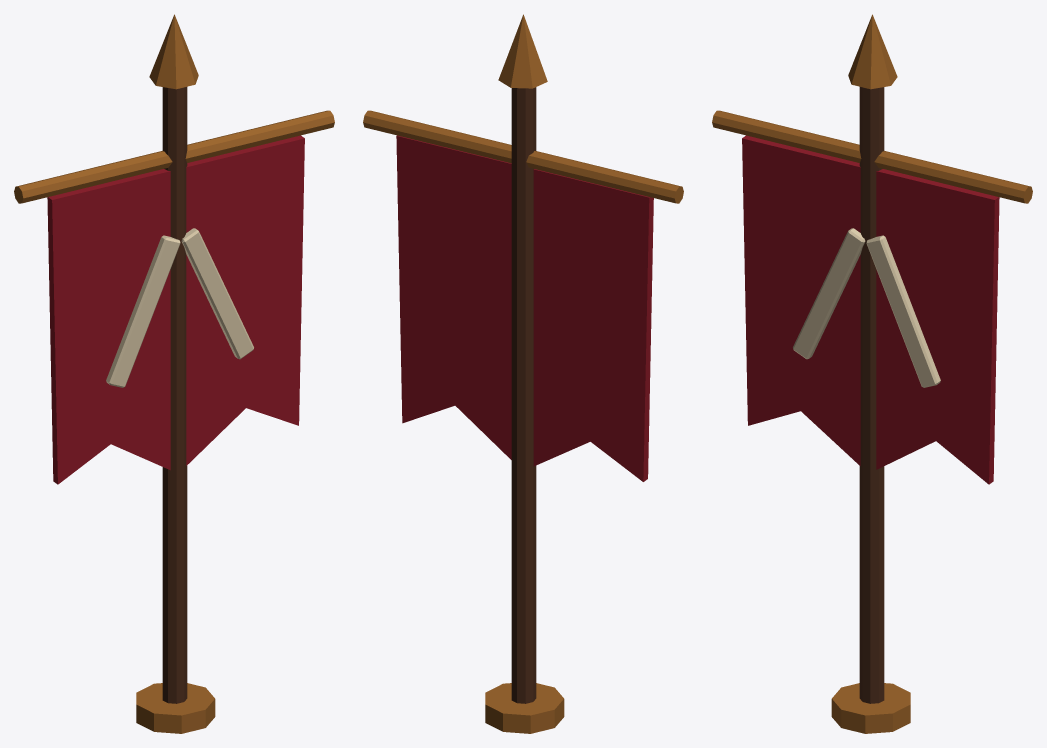
File: battle_banner_crimson_lambda_LOD1.glb
The picture shows the model from 3 angles, left to right: view 1: azimuth 30°, elevation 25°; view 2: azimuth 150°, elevation 25°; view 3: azimuth 330°, elevation 25°; orthographic projection.
Parts seen in each view (by area): view 1: battle_banner_crimson_lambda_LOD1; view 2: battle_banner_crimson_lambda_LOD1; view 3: battle_banner_crimson_lambda_LOD1.
Part boxes in pixels (left/top/right/bottom): battle_banner_crimson_lambda_LOD1: left=14, top=14, right=334, bottom=733; battle_banner_crimson_lambda_LOD1: left=363, top=14, right=683, bottom=733; battle_banner_crimson_lambda_LOD1: left=712, top=14, right=1032, bottom=733.
Size of the model in its own units: 2.12 by 4.57 by 0.4655.
